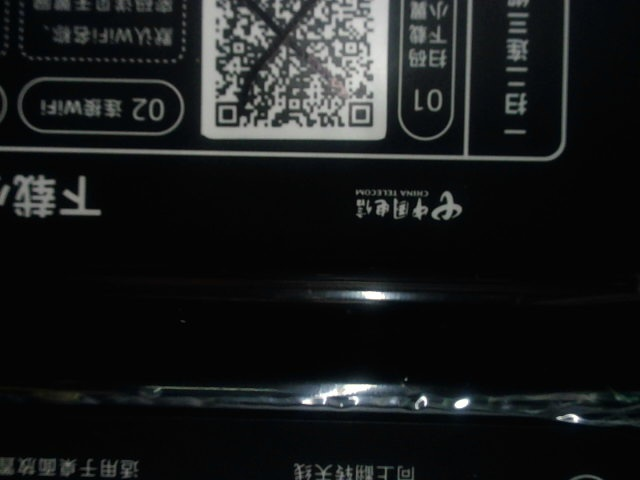AB_ChinaTelecom: (348, 182, 463, 227)
